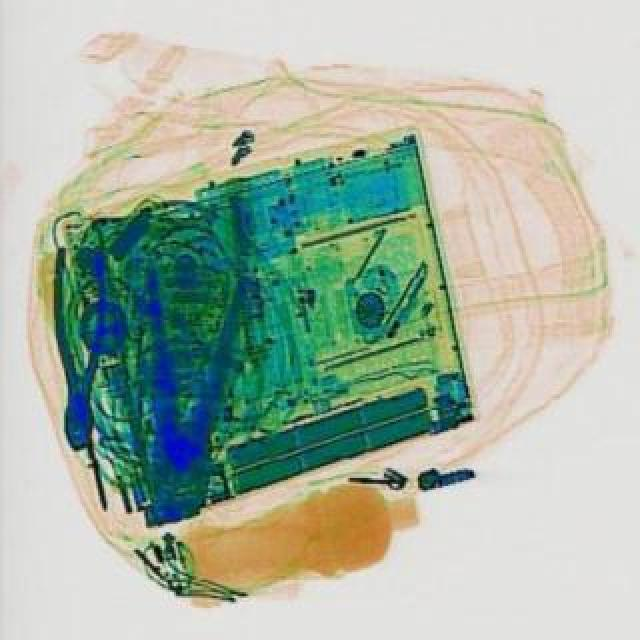wrench: (120, 262, 250, 522), (48, 244, 104, 448)
